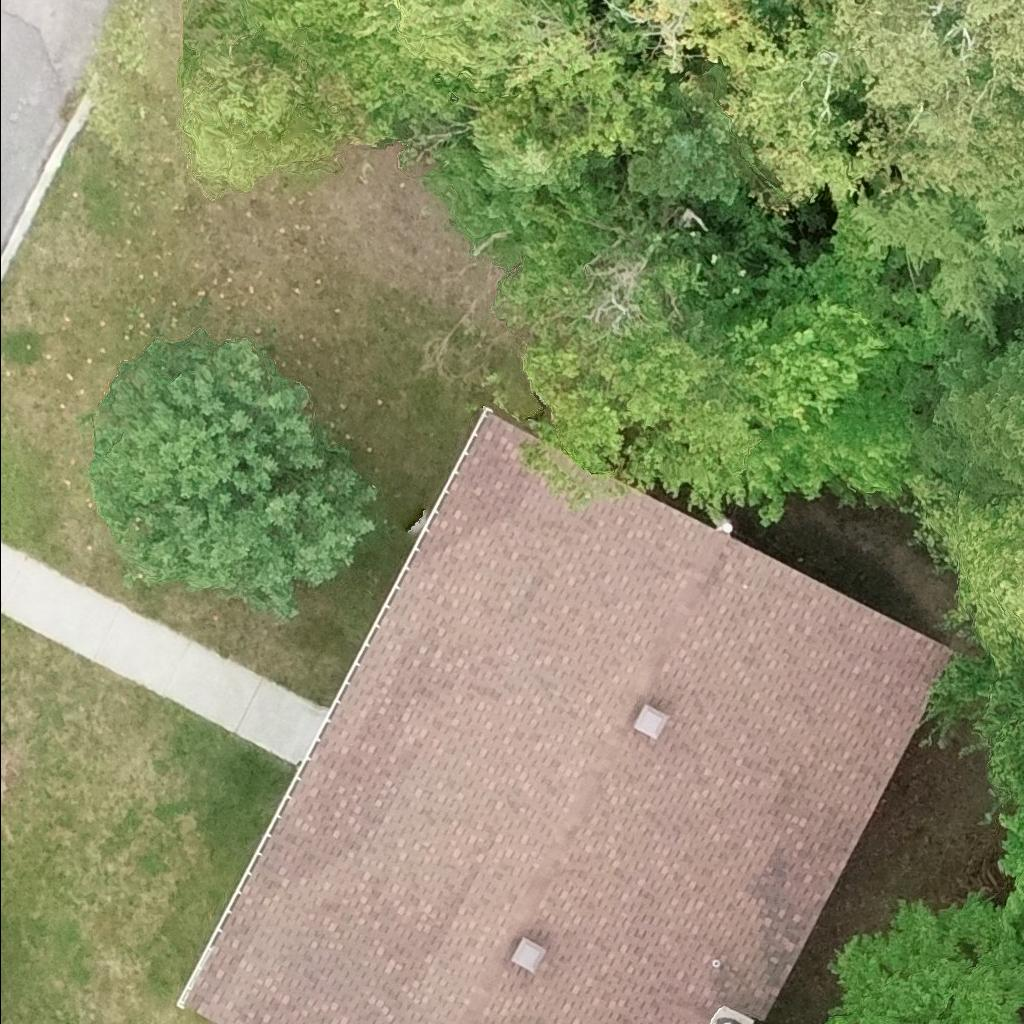crown: (236, 0, 673, 155), (717, 0, 1023, 209), (175, 0, 366, 185), (746, 354, 923, 527), (847, 180, 1023, 347), (817, 888, 1023, 1023), (725, 289, 894, 435), (899, 312, 1023, 506), (923, 648, 1023, 810), (626, 84, 752, 205), (941, 489, 1023, 670), (901, 474, 954, 562), (993, 800, 1023, 949)
